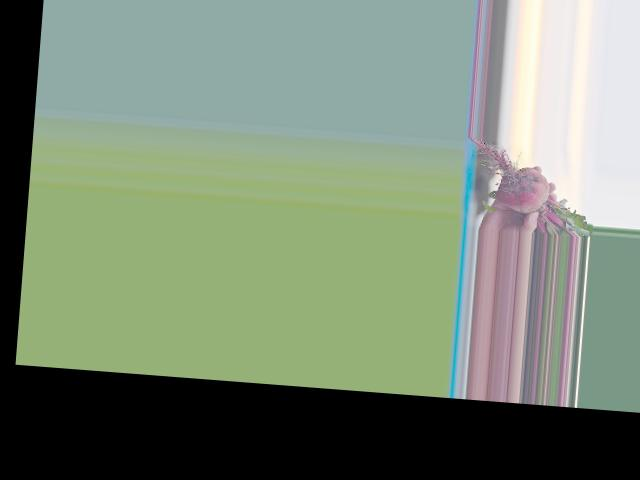beet: (462, 136, 599, 237)
